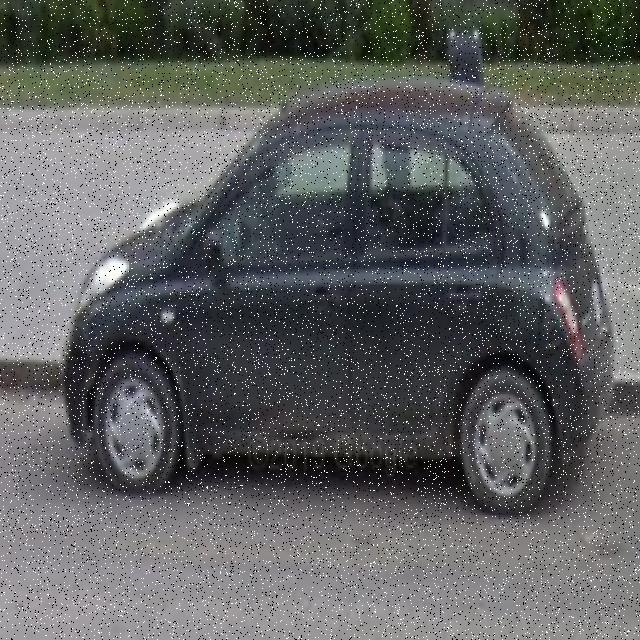cars: (69, 98, 607, 525)
